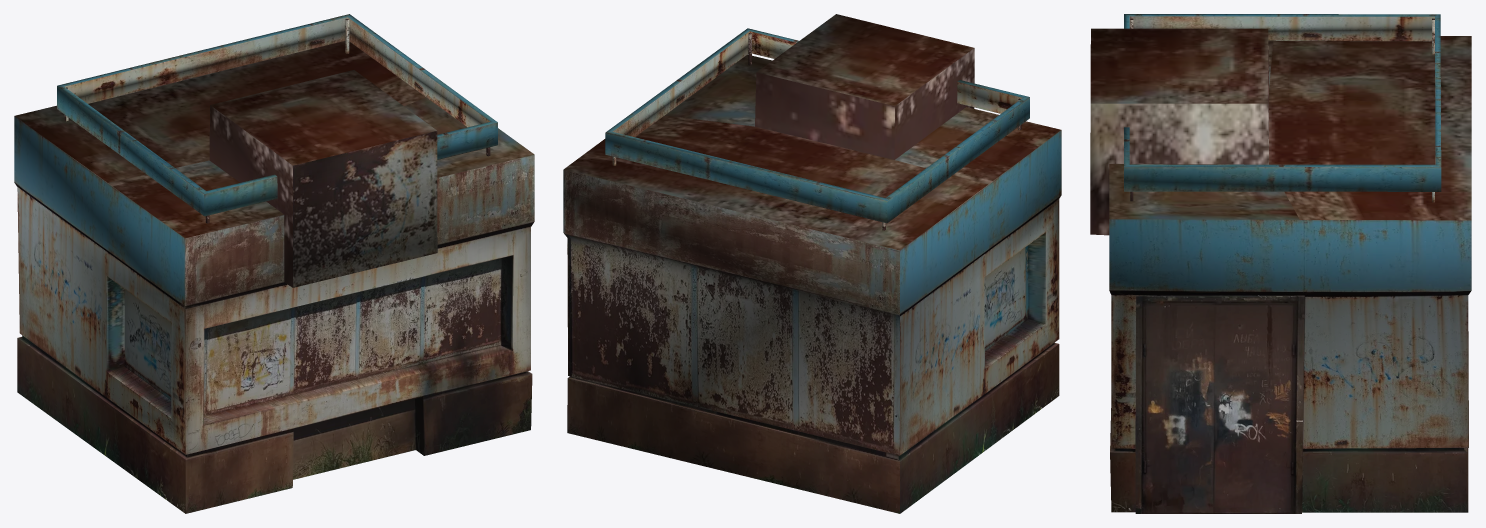
The model's file is obj_rusty_kiosk.glb.
3 renders of one model, left to right at view 1: azimuth 30°, elevation 25°; view 2: azimuth 150°, elevation 25°; view 3: azimuth 270°, elevation 25°, orthographic. The views are drawn at different scales.
Parts seen in each view (by area): view 1: RustyKiosk01_RustyKiosk01_0; view 2: RustyKiosk01_RustyKiosk01_0; view 3: RustyKiosk01_RustyKiosk01_0.
Part boxes in pixels (x1=…): RustyKiosk01_RustyKiosk01_0: x1=14, y1=14, x2=534, y2=513; RustyKiosk01_RustyKiosk01_0: x1=563, y1=14, x2=1061, y2=513; RustyKiosk01_RustyKiosk01_0: x1=1090, y1=14, x2=1471, y2=513.
Size of the model in its own units: 3.76 by 3.4 by 3.31.
Materials: 1 (1 with a texture image).
